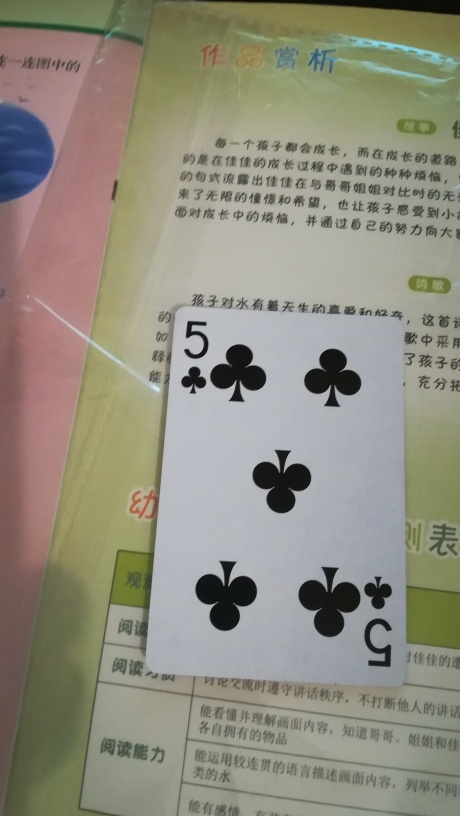mh 5: (148, 306, 409, 691)
